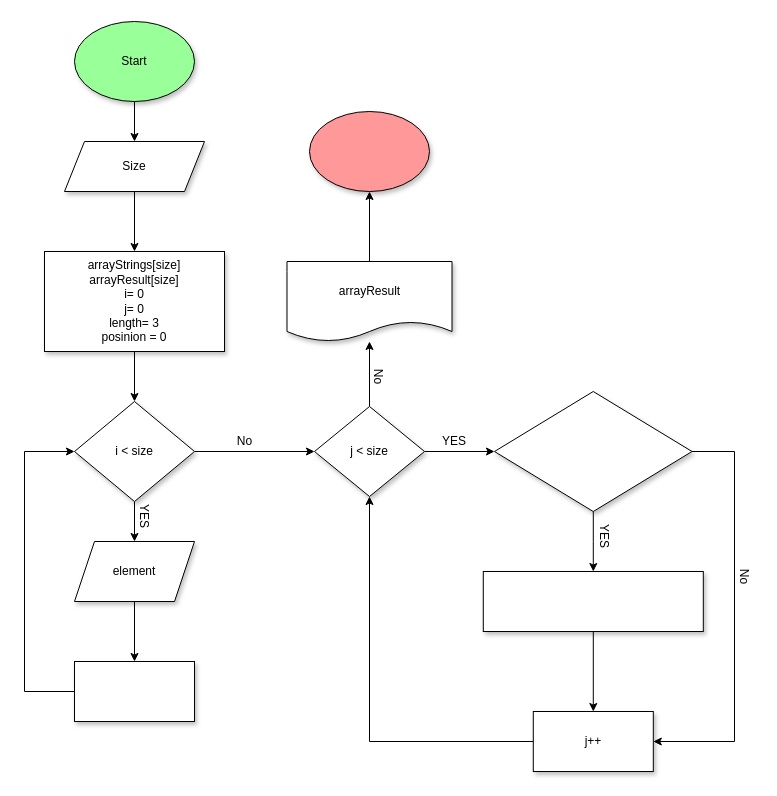
The diagram is 777 pixels wide and 796 high, and some of its shapes have lost their labels. Each missing label, with the centre of its shape:
"arrayResult[position] = arrayStrings[j] position++" goes at point 593,602.
"arrayStrings[i] = element ++" goes at point 135,692.
"arrayStrings[j].Length <= length" goes at point 594,452.
"End" goes at point 370,152.
